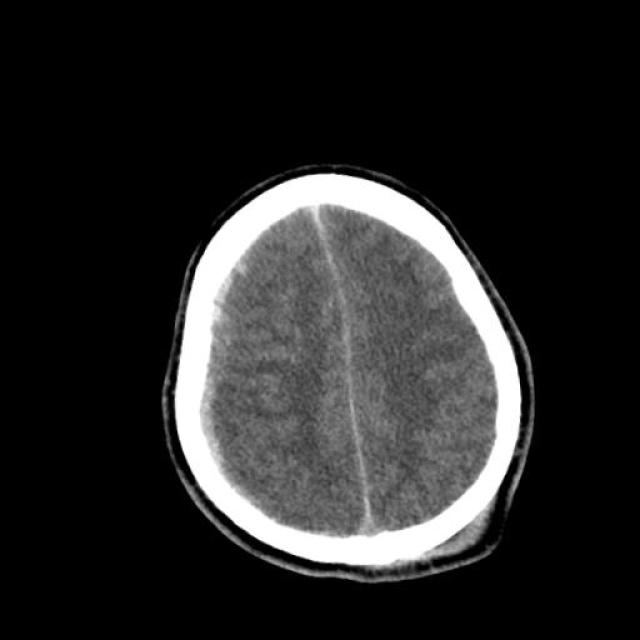Subdural: (175, 249, 283, 540)
